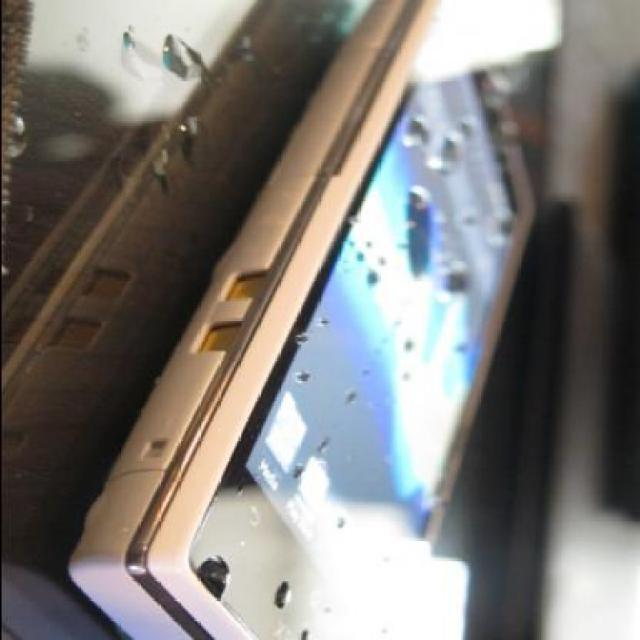phone: (63, 0, 537, 638)
